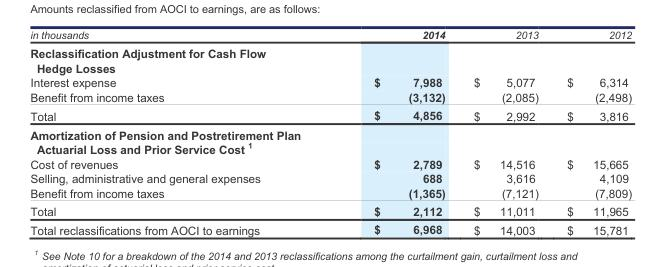table: (29, 29, 631, 236)
table column: (29, 29, 316, 236), (316, 29, 458, 236), (458, 29, 552, 236), (552, 29, 631, 236)
table column header: (29, 29, 631, 43)
table projected row header: (29, 43, 631, 60), (29, 140, 631, 156), (29, 125, 631, 140), (29, 60, 631, 74)
table row: (29, 106, 631, 125), (29, 202, 631, 220), (29, 43, 631, 60), (29, 89, 631, 106), (29, 185, 631, 202), (29, 140, 631, 156), (29, 220, 631, 236), (29, 74, 631, 89), (29, 125, 631, 140), (29, 170, 631, 185), (29, 29, 631, 43), (29, 60, 631, 74), (29, 156, 631, 170)
